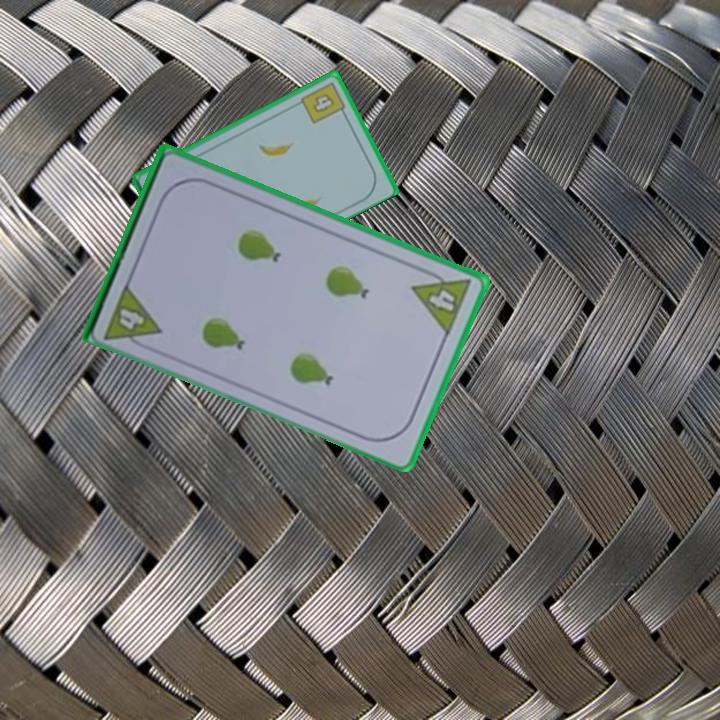4b: (297, 78, 349, 127)
4p: (408, 263, 474, 338), (101, 278, 164, 354)
